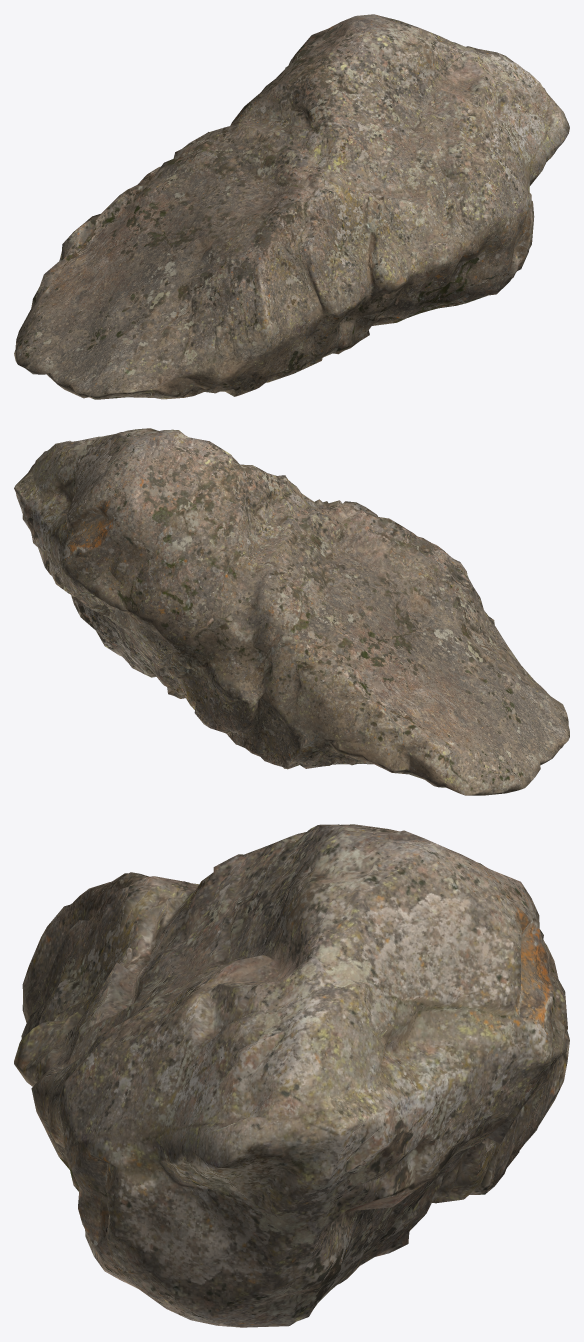
Rendered from SM_wgxiadg_tier_2.gltf.
The picture shows the model from 3 angles, top to bottom: view 1: azimuth 30°, elevation 25°; view 2: azimuth 150°, elevation 25°; view 3: azimuth 270°, elevation 25°; orthographic projection. The views are drawn at different scales.
Visible parts, largest first — view 1: wgxiadg_LOD2_TIER2_000; view 2: wgxiadg_LOD2_TIER2_000; view 3: wgxiadg_LOD2_TIER2_000.
Part boxes in pixels (bbox=[...]): wgxiadg_LOD2_TIER2_000: bbox=[14, 14, 569, 399]; wgxiadg_LOD2_TIER2_000: bbox=[14, 428, 569, 795]; wgxiadg_LOD2_TIER2_000: bbox=[14, 824, 569, 1327].
Size of the model in its own units: 4.85 by 2.36 by 2.61.
Materials: 1 (1 with a texture image).
